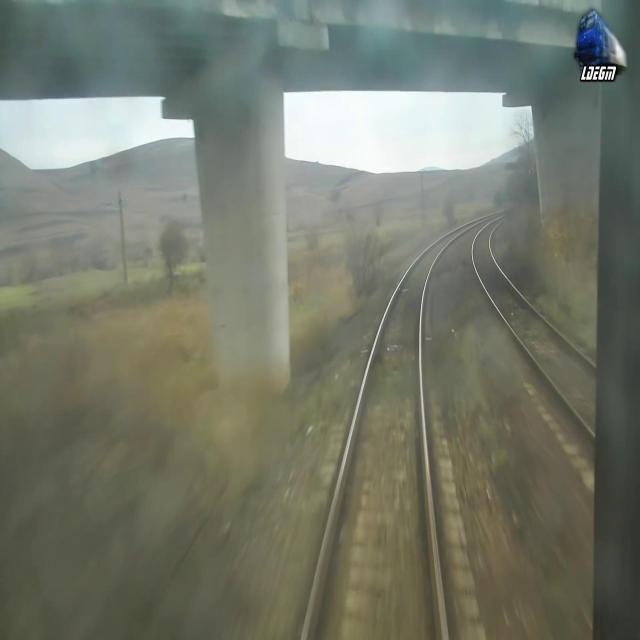rail-track: (306, 211, 503, 639), (472, 216, 640, 486)
